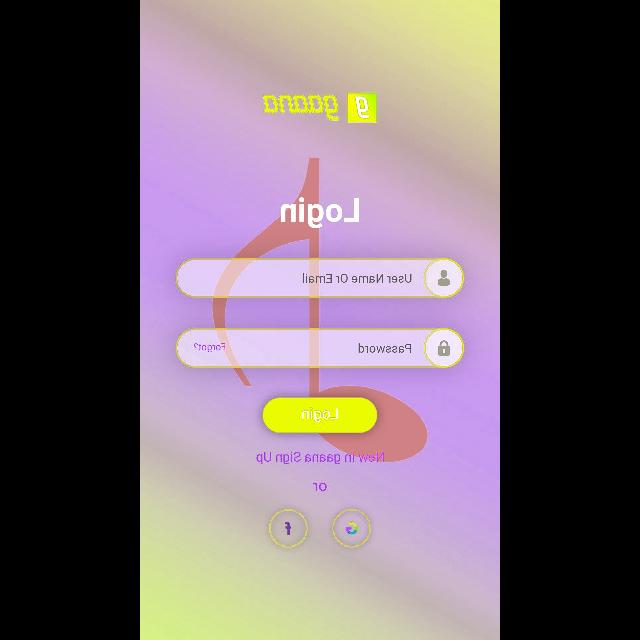backgroundimage: (140, 1, 500, 640)
icon: (333, 509, 371, 547), (269, 509, 307, 547), (438, 270, 450, 286), (438, 340, 449, 356)
image: (263, 93, 377, 123)
input: (176, 258, 464, 298), (176, 328, 464, 368)
text: (281, 198, 359, 228), (256, 452, 384, 464), (303, 274, 412, 282), (358, 343, 412, 352), (194, 343, 226, 352), (314, 483, 326, 491)
textbutton: (263, 398, 377, 432)
